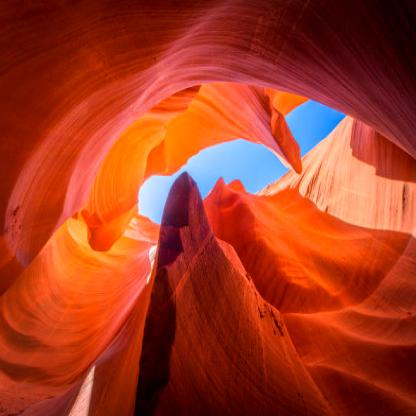Sedimentary_Sandstone: (148, 179, 325, 415), (0, 0, 97, 287), (103, 0, 310, 86), (322, 0, 416, 154)
